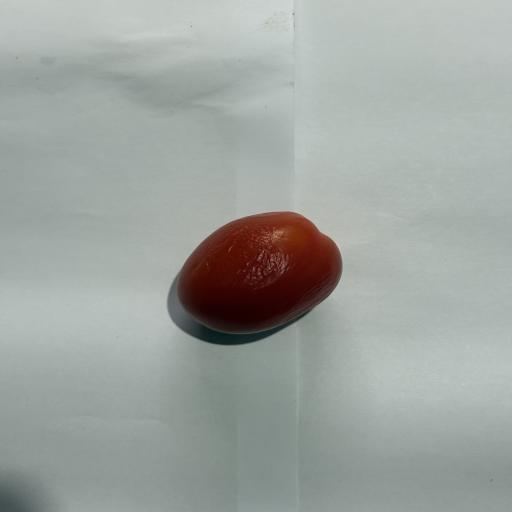spoiled: (177, 212, 342, 334)
